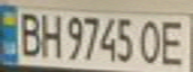4: (100, 14, 121, 62)
5: (115, 15, 139, 63)
7: (81, 12, 100, 61)
9: (63, 11, 84, 61)
B: (12, 8, 45, 57)
E: (157, 16, 190, 68)
H: (36, 9, 63, 58)
O: (136, 16, 166, 65)
